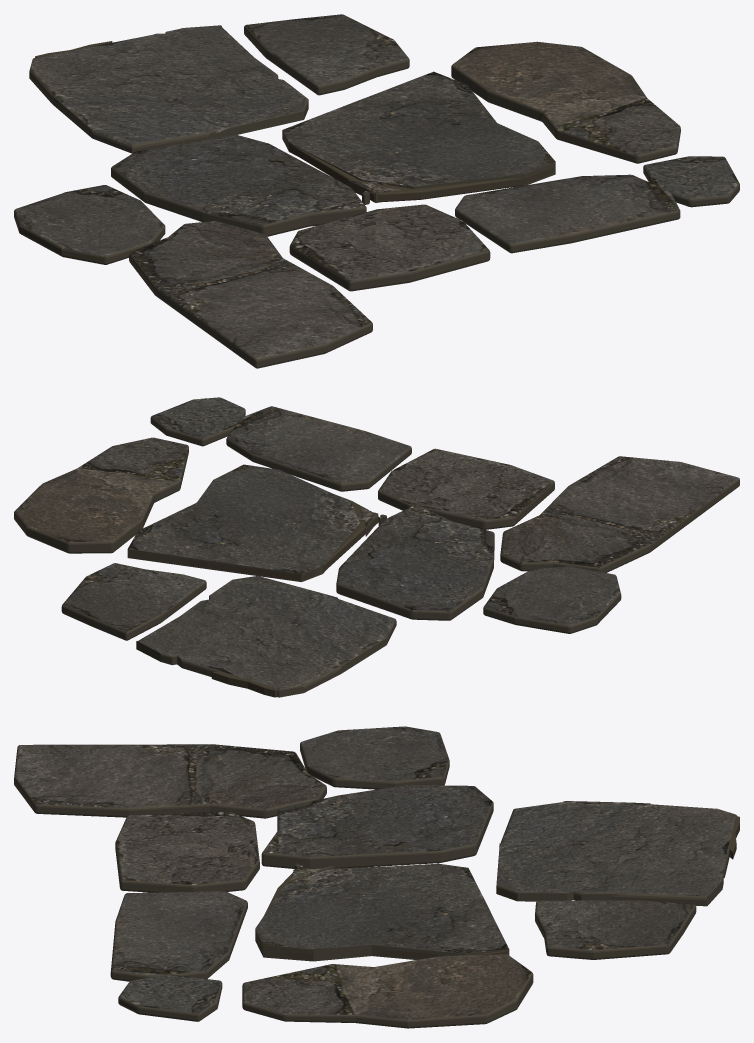
File: paving-strip-v3-native.glb
The picture shows the model from 3 angles, top to bottom: view 1: azimuth 30°, elevation 25°; view 2: azimuth 150°, elevation 25°; view 3: azimuth 270°, elevation 25°; orthographic projection. The views are drawn at different scales.
Visible parts, largest first — view 1: RegisteredPavingGeometryStudy; view 2: RegisteredPavingGeometryStudy; view 3: RegisteredPavingGeometryStudy.
Boxes of the visible parts, <box> form: RegisteredPavingGeometryStudy: <box>14,14,739,368</box>; RegisteredPavingGeometryStudy: <box>14,397,739,697</box>; RegisteredPavingGeometryStudy: <box>14,726,739,1028</box>.
Bounding box in the file's own units: 2.29 × 0.052 × 2.38.
3 materials, 1 textured.
